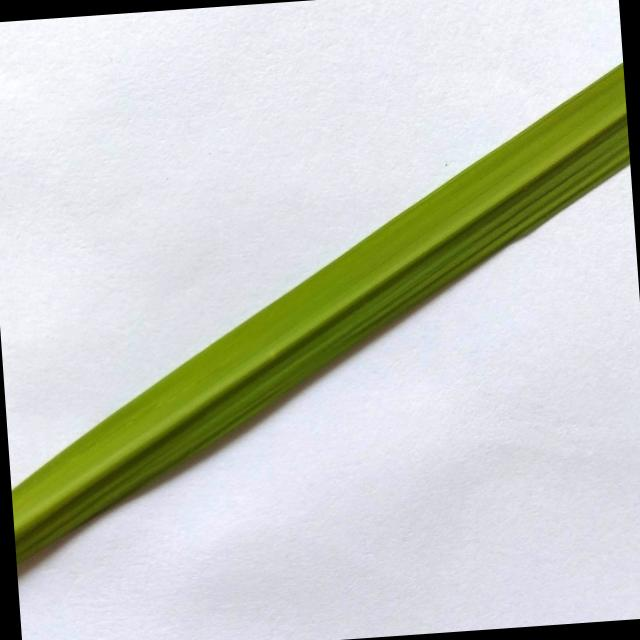Rice_Healthy: (11, 63, 629, 562)
